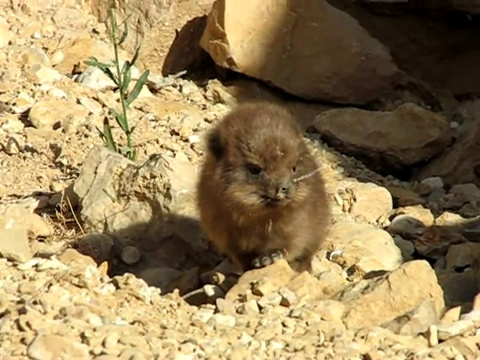Rock Hyrex: (207, 101, 326, 278)
